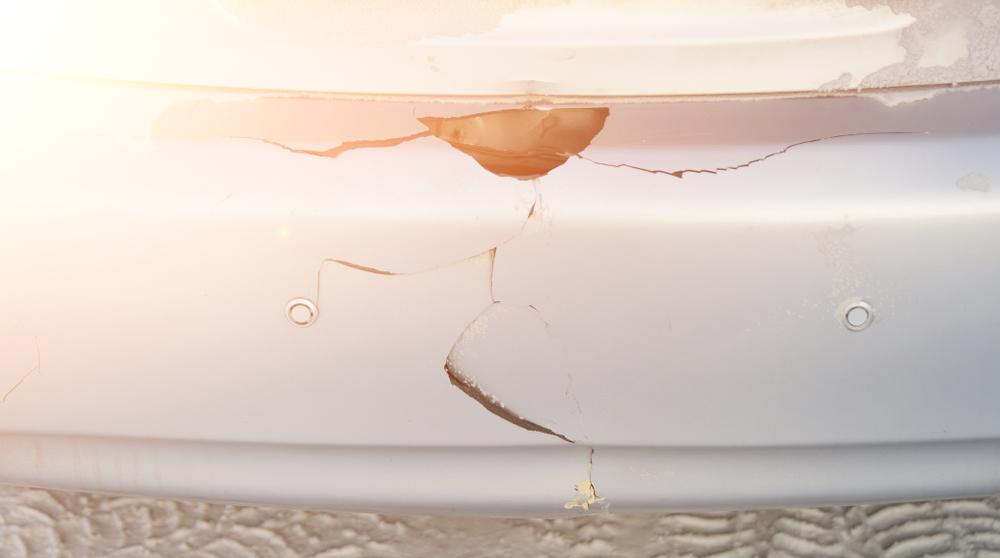crack: (226, 106, 938, 511)
